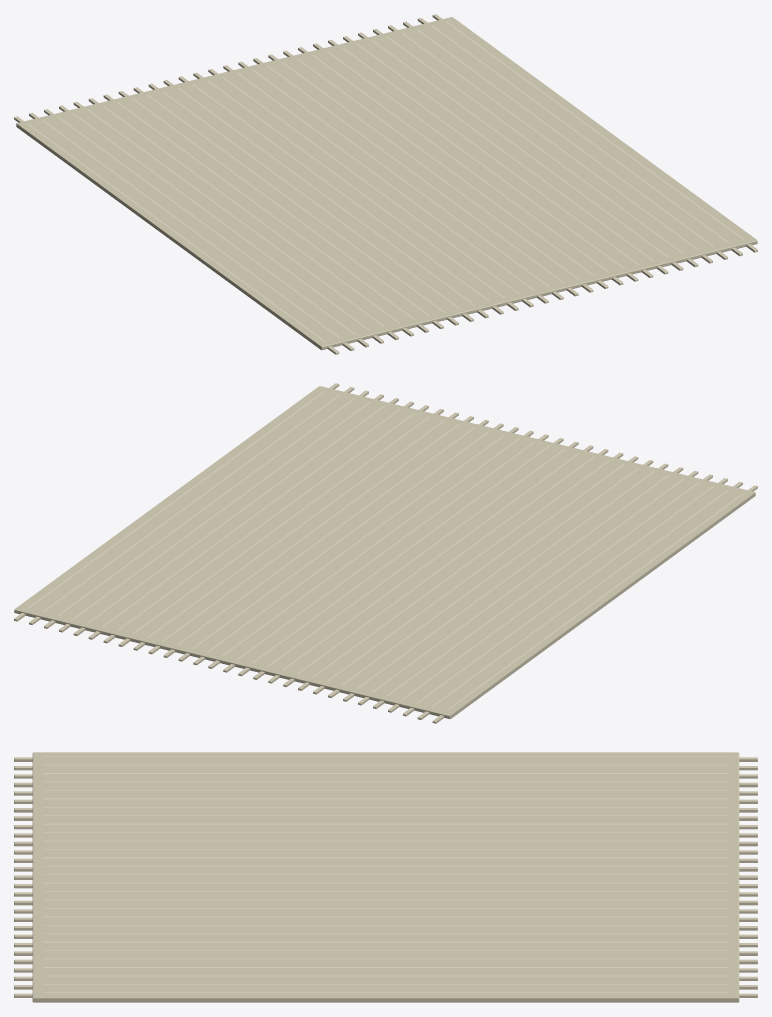
File: rug.glb
3 views of the same model, one above another, from view 1: azimuth 30°, elevation 25°; view 2: azimuth 150°, elevation 25°; view 3: azimuth 270°, elevation 25° (orthographic). The views are drawn at different scales.
Visible parts, largest first — view 1: Wool rug, Weave line (×29); view 2: Wool rug, Weave line (×29); view 3: Wool rug, Weave line (×29).
Boxes of the visible parts, box(x1,y1,x2,y2) form: Wool rug: box(16, 17, 757, 350); Weave line (×29): box(28, 22, 743, 341); Wool rug: box(14, 386, 755, 719); Weave line (×29): box(28, 391, 743, 710); Wool rug: box(32, 752, 739, 1002); Weave line (×29): box(43, 756, 728, 992).
Bounding box in the file's own units: 2.8 × 0.023 × 3.58.
